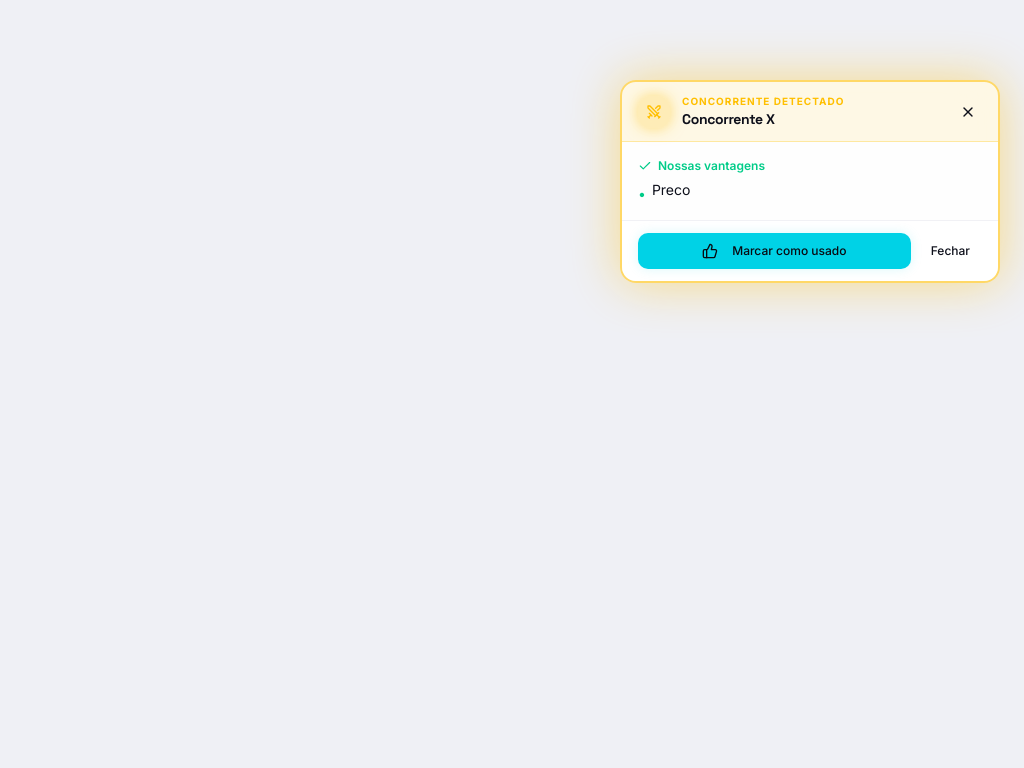
Scenario: BattleCardAlert - duplo clique (etapa 218) › registra o uso uma unica vez quando o botao e clicado duas vezes rapido
Click the button "Marcar como usado" at {"x": 774, "y": 251}, box [638, 233, 911, 269]
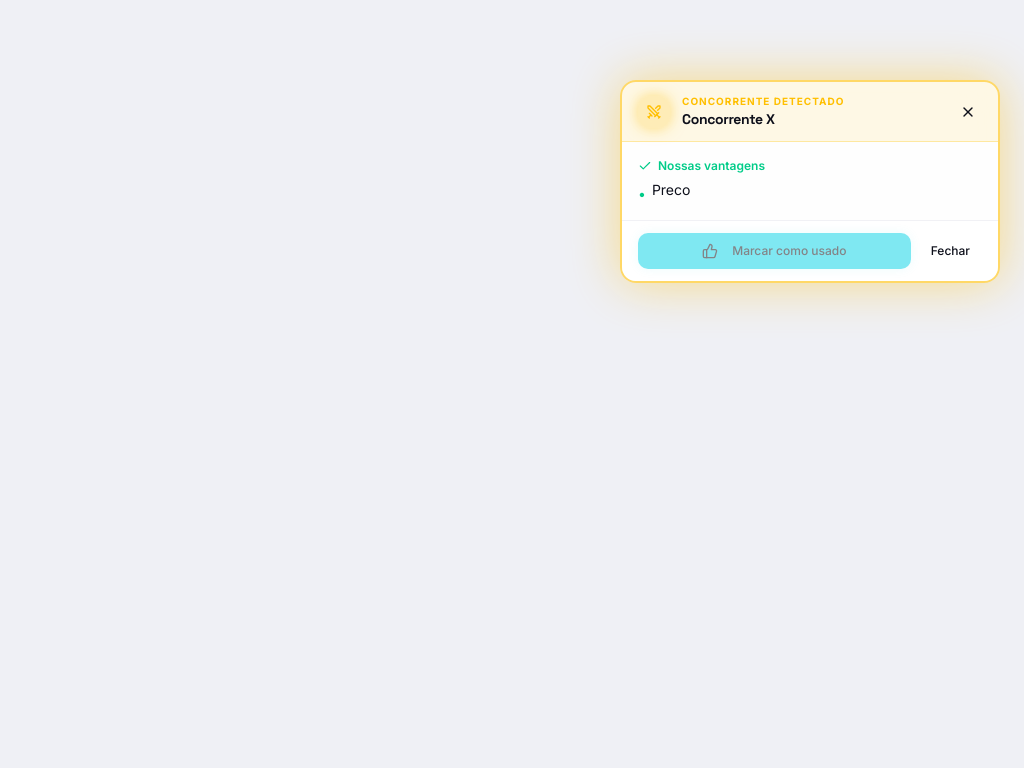
Click the button "Marcar como usado" at {"x": 774, "y": 251}, box [638, 233, 911, 269]
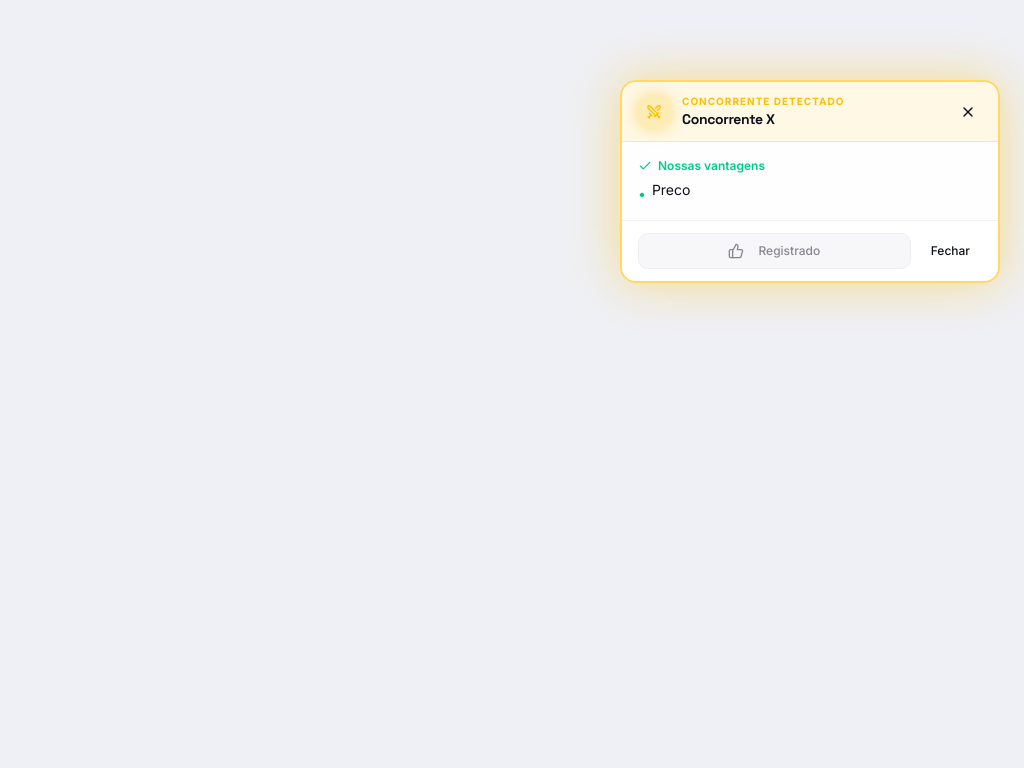
Now the button "Registrado" is shown, box [638, 233, 911, 269]
